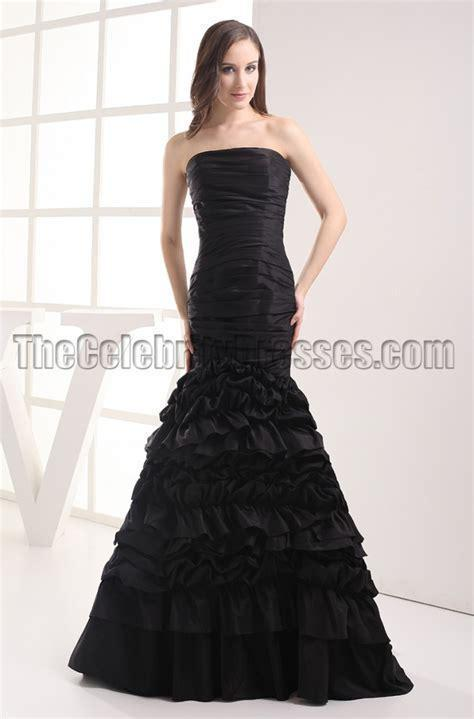dress: (67, 148, 414, 706)
